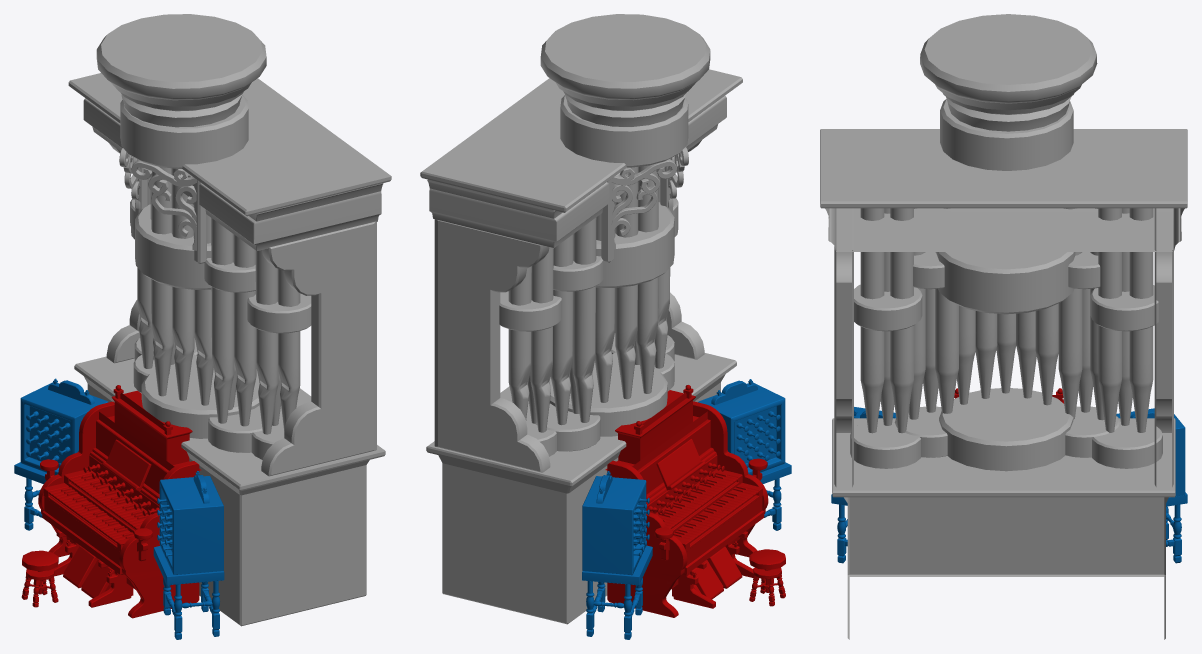
Rendered from SM_Orgue_NS.fbx.
3 views of the same model, side by side, from view 1: azimuth 30°, elevation 25°; view 2: azimuth 150°, elevation 25°; view 3: azimuth 270°, elevation 25° (orthographic). The views are drawn at different scales.
Visible parts, largest first — view 1: polySurface1170; view 2: polySurface1170; view 3: polySurface1170.
Part boxes in pixels (x1,y1,x2,y2): polySurface1170: (14,14,391,639); polySurface1170: (420,14,791,639); polySurface1170: (820,14,1187,639).
Size of the model in its own units: 1220 by 1356 by 2183.
